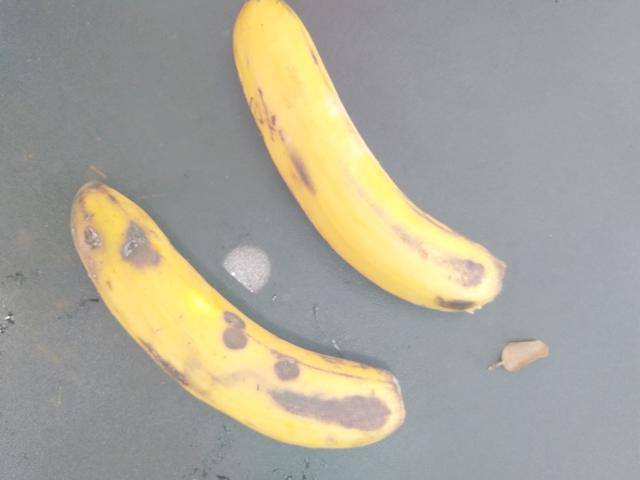overripe: (66, 172, 411, 465)
ripe: (228, 0, 523, 321)
